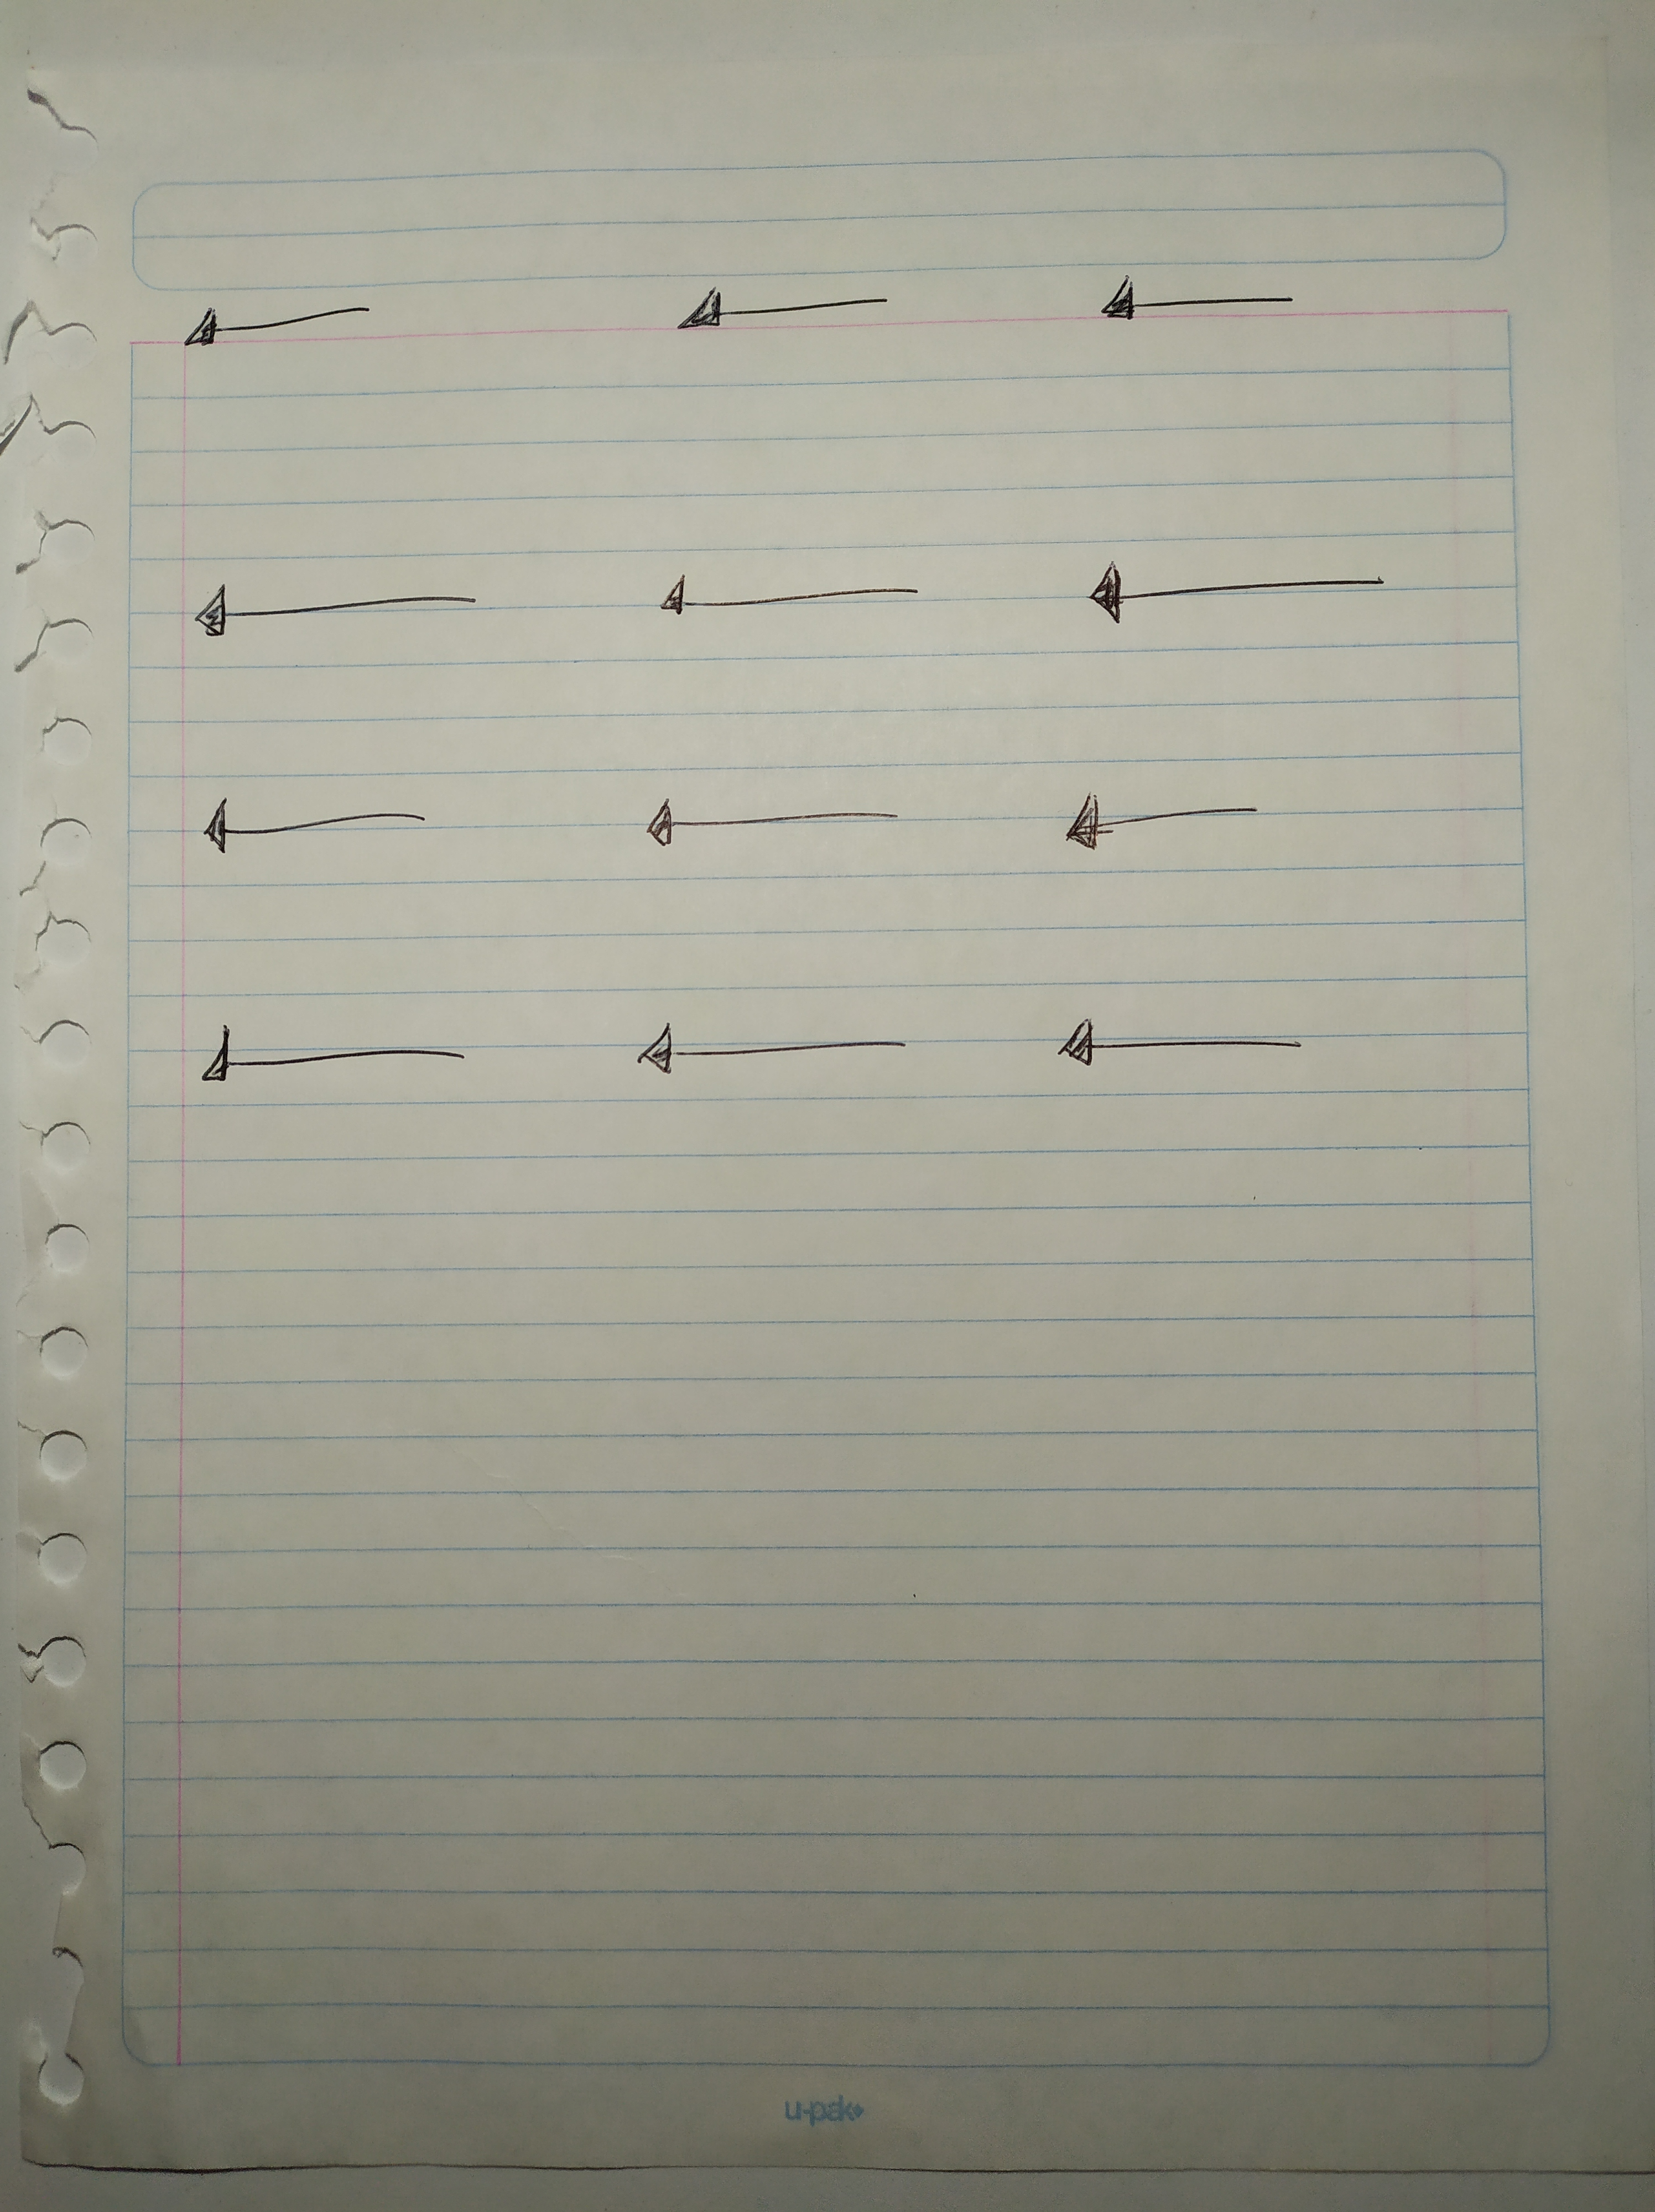arrow_line_left: (622, 556, 954, 650), (172, 1013, 542, 1096), (179, 778, 469, 884), (1047, 556, 1443, 632), (1024, 766, 1304, 871), (162, 565, 502, 650), (603, 1011, 935, 1089), (1024, 1003, 1333, 1084), (155, 269, 402, 367), (664, 261, 914, 354), (610, 789, 907, 865), (1069, 261, 1344, 342)
